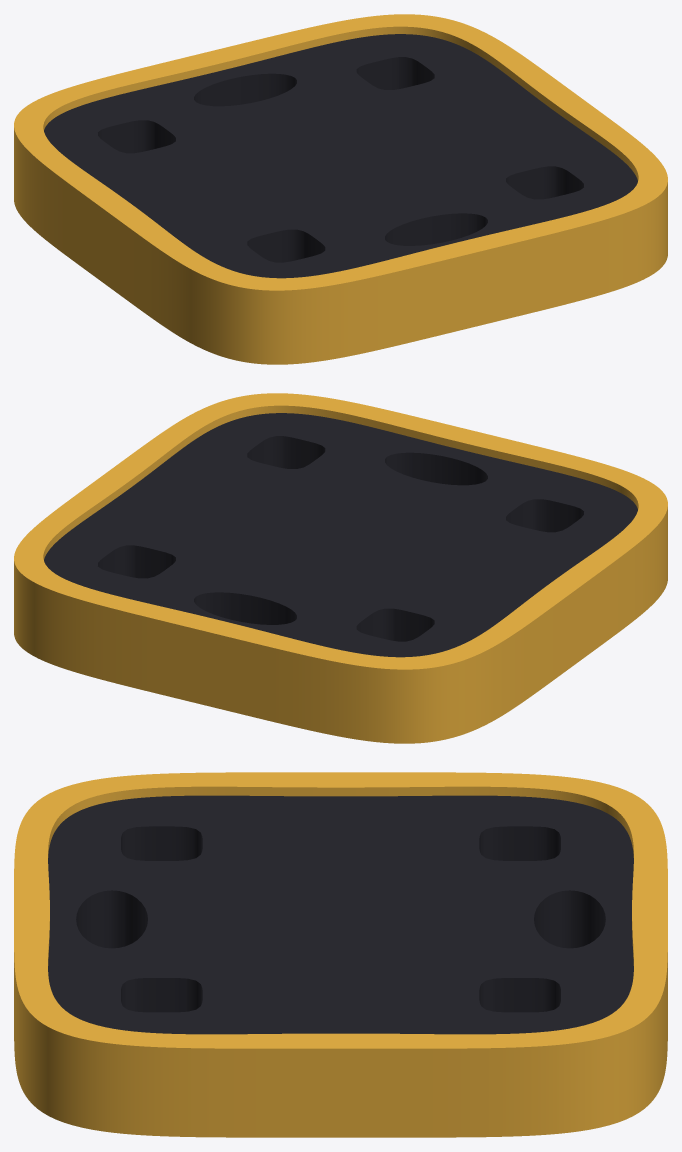
File: KakuGuard.fbx
The picture shows the model from 3 angles, top to bottom: view 1: azimuth 30°, elevation 25°; view 2: azimuth 150°, elevation 25°; view 3: azimuth 270°, elevation 25°; orthographic projection. The views are drawn at different scales.
Parts seen in each view (by area): view 1: KakuCore, KakuRim; view 2: KakuCore, KakuRim; view 3: KakuCore, KakuRim.
Part boxes in pixels (<box>): KakuCore: <box>44,34,637,278</box>; KakuRim: <box>14,14,667,364</box>; KakuCore: <box>44,413,637,657</box>; KakuRim: <box>14,393,667,743</box>; KakuCore: <box>48,795,633,1034</box>; KakuRim: <box>14,772,667,1137</box>.
Bounding box in the file's own units: 0.4 × 0.06 × 0.4.
